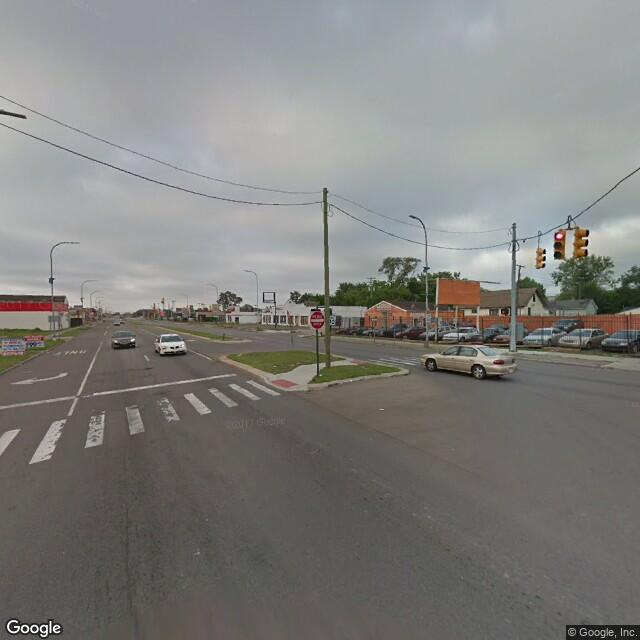litter: (318, 373, 323, 376)
